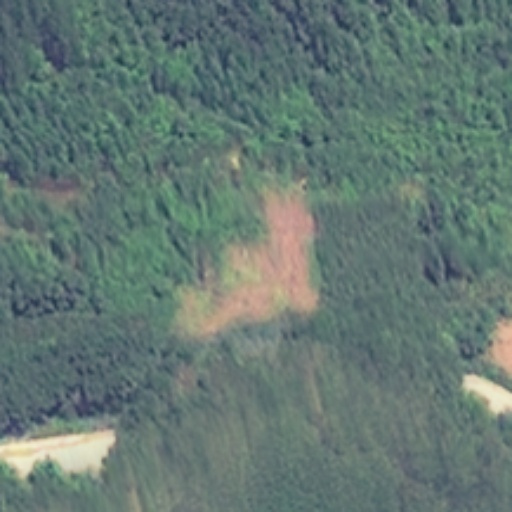landslide: (190, 186, 316, 332), (1, 429, 116, 479)
